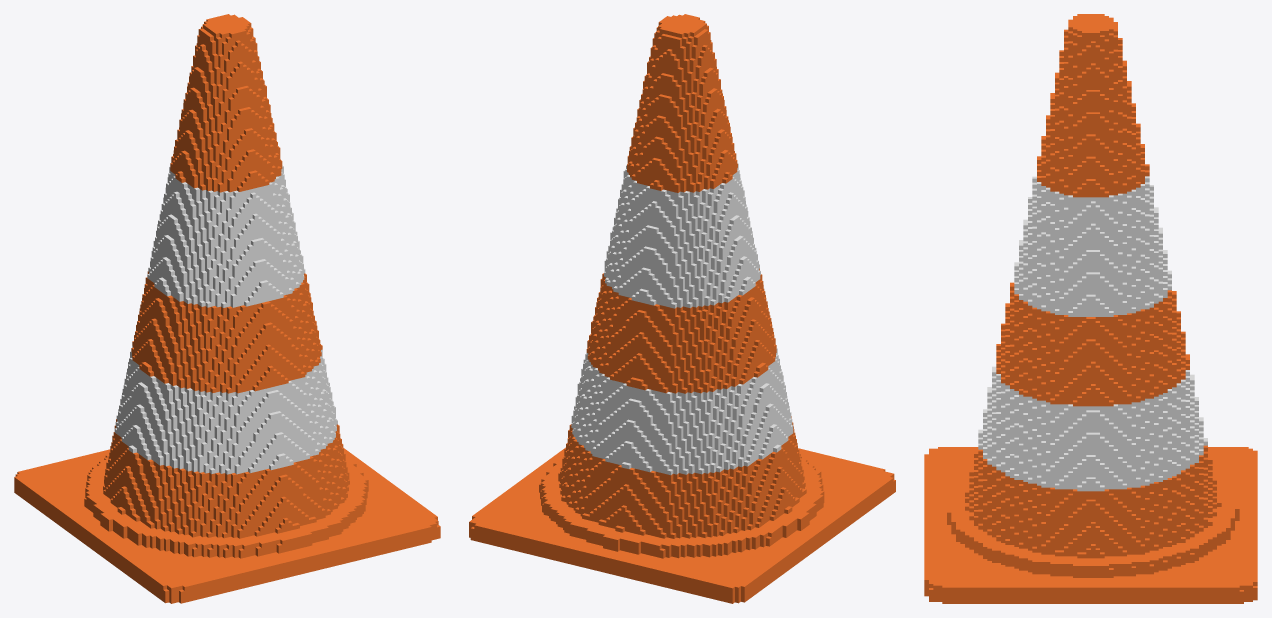
The model's file is TrafficCone.obj.
The picture shows the model from 3 angles, left to right: view 1: azimuth 30°, elevation 25°; view 2: azimuth 150°, elevation 25°; view 3: azimuth 270°, elevation 25°; orthographic projection. The views are drawn at different scales.
Visible parts, largest first — view 1: TrafficCone; view 2: TrafficCone; view 3: TrafficCone.
Boxes of the visible parts, x1,y1,x2,y2 form: TrafficCone: (14,14,440,603); TrafficCone: (469,14,895,603); TrafficCone: (924,14,1257,603).
Bounding box in the file's own units: 74 × 125 × 74.
